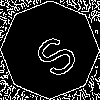S: (25, 25, 81, 82)
